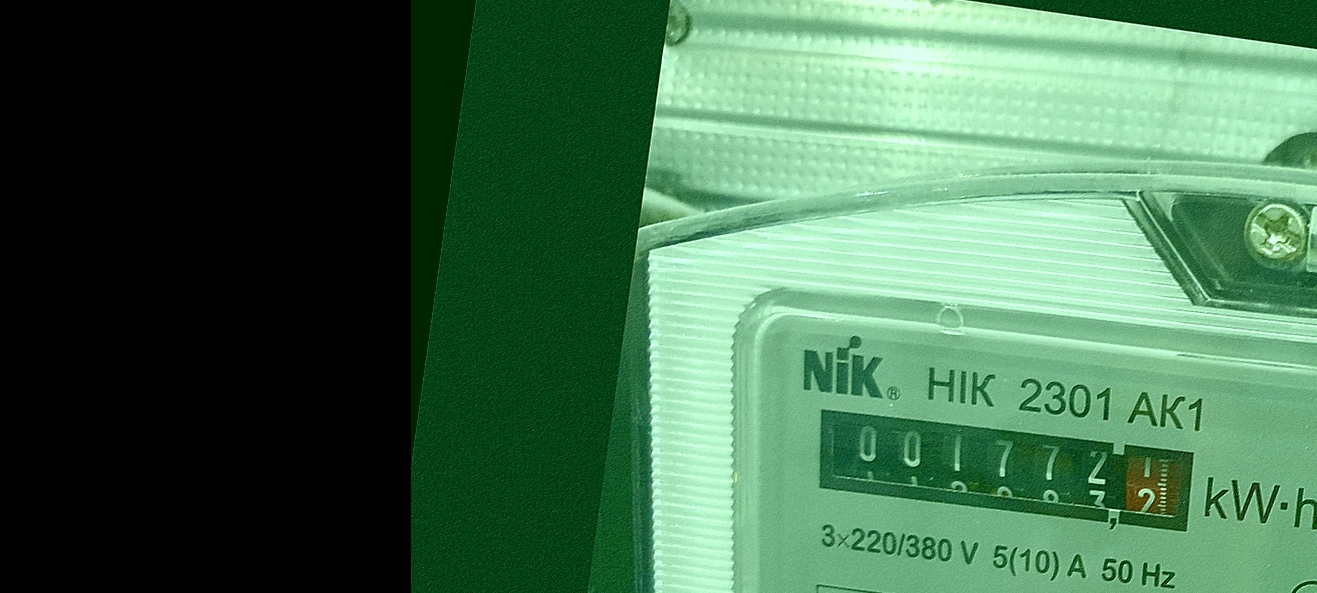0: (850, 418, 883, 462), (898, 424, 926, 466)
1: (946, 430, 968, 470), (1138, 452, 1155, 479)
2: (1083, 446, 1111, 485), (1131, 482, 1158, 513)
3: (1085, 484, 1109, 508)
7: (988, 434, 1016, 478), (1035, 440, 1061, 481)
screen: (797, 386, 1215, 550)
